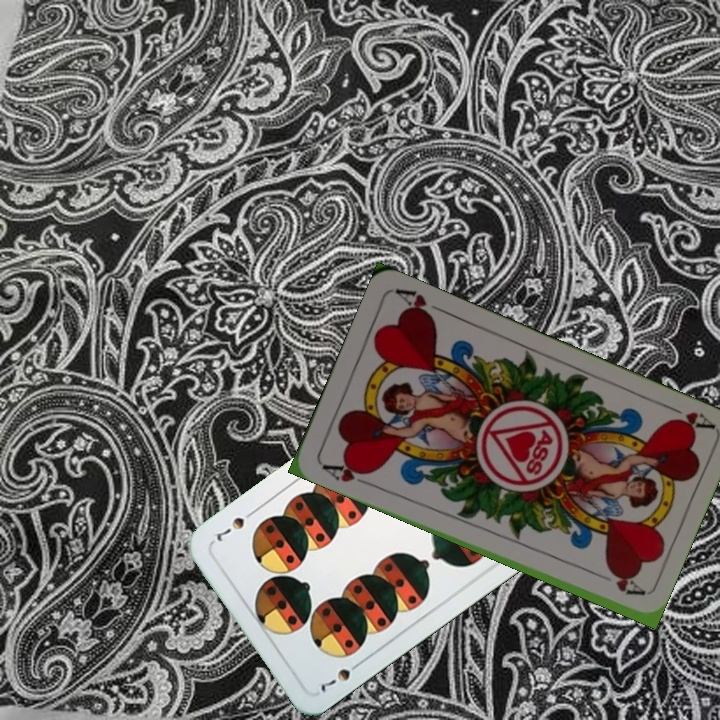HA: (659, 399, 715, 435), (317, 457, 375, 489)
S7: (316, 656, 366, 696)
